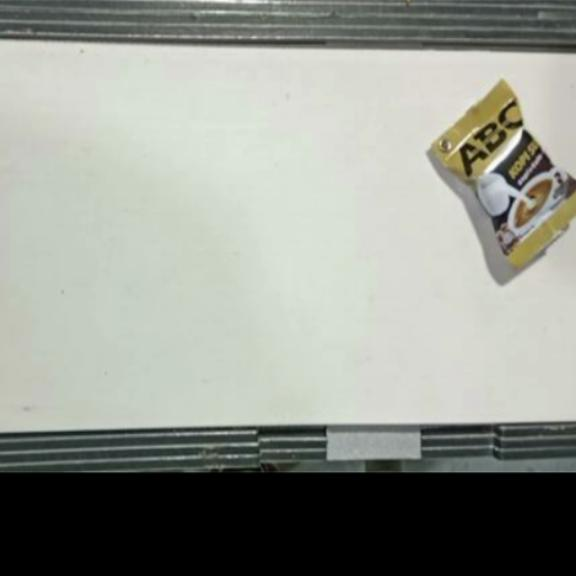Plastik: (433, 80, 576, 268)
